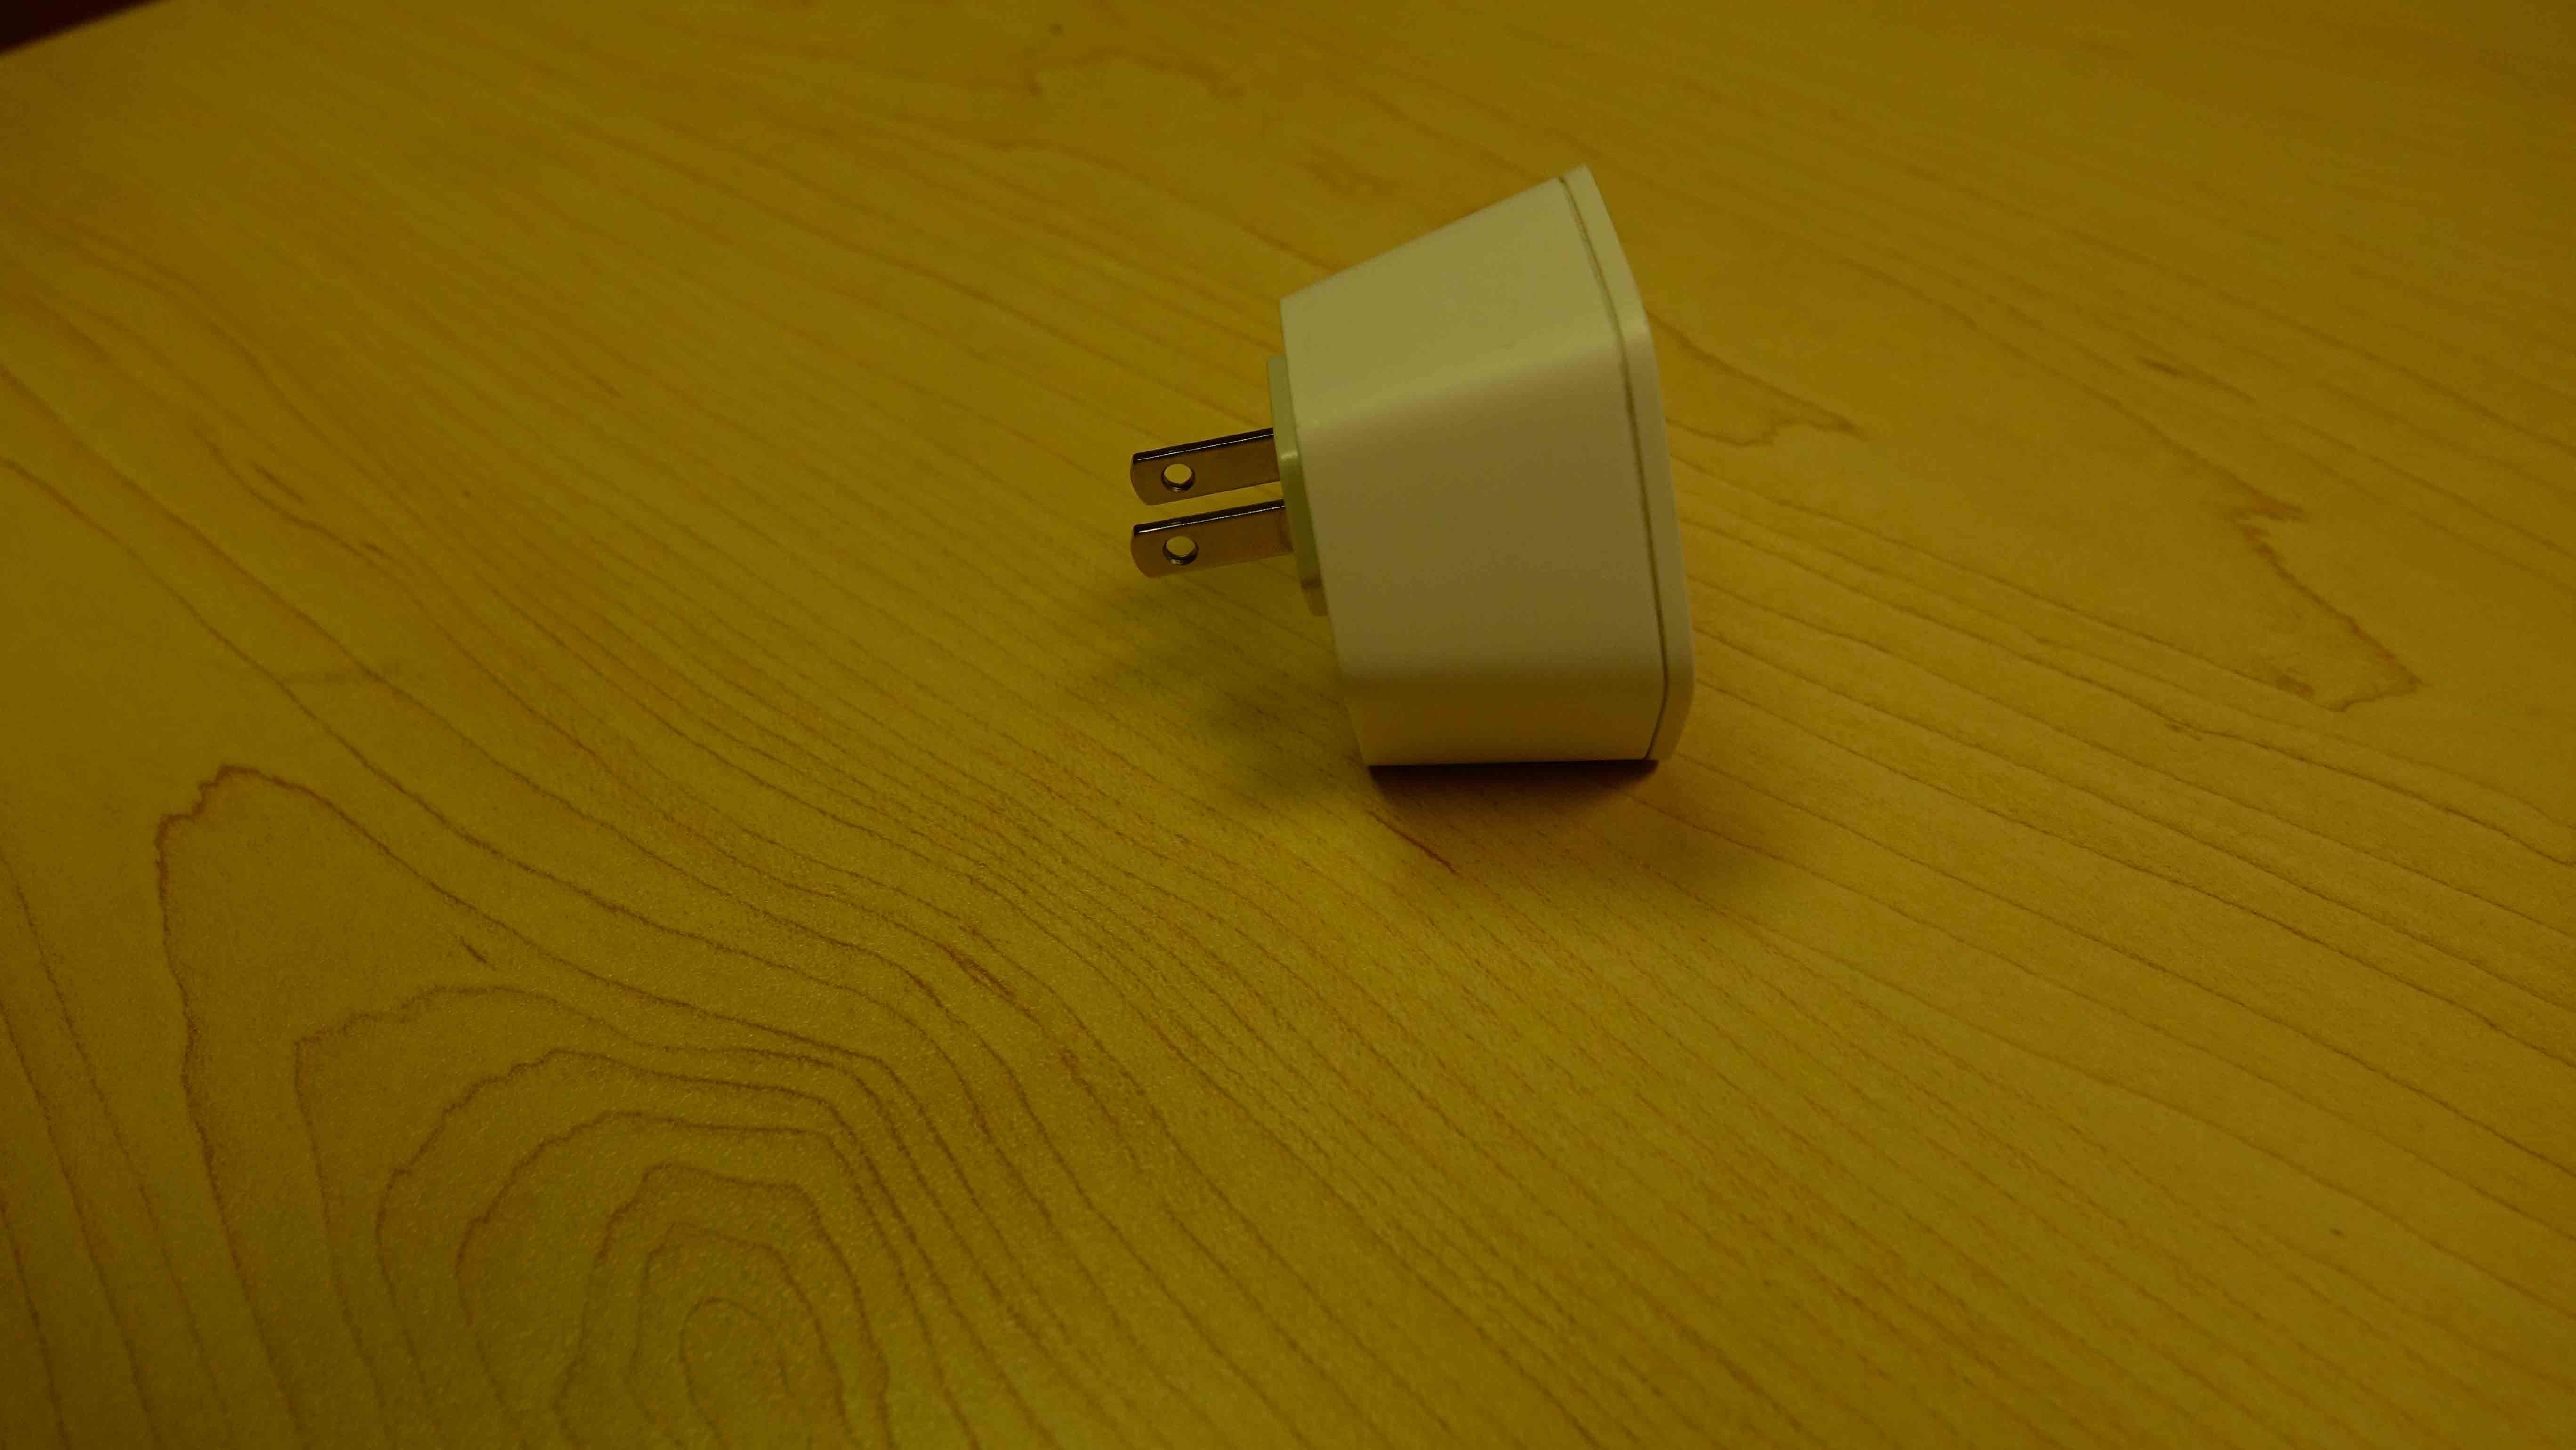pod: (1111, 156, 1704, 794)
